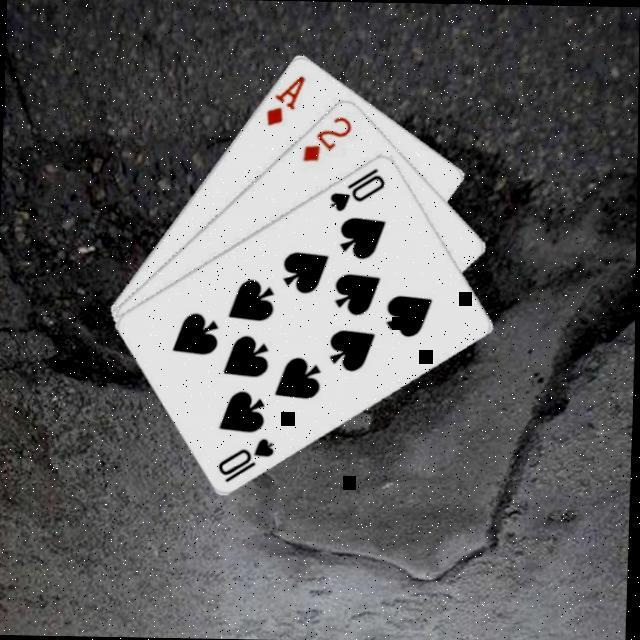10S: (327, 163, 391, 216), (216, 434, 280, 486)
2D: (299, 111, 357, 166)
AD: (262, 71, 310, 130)
